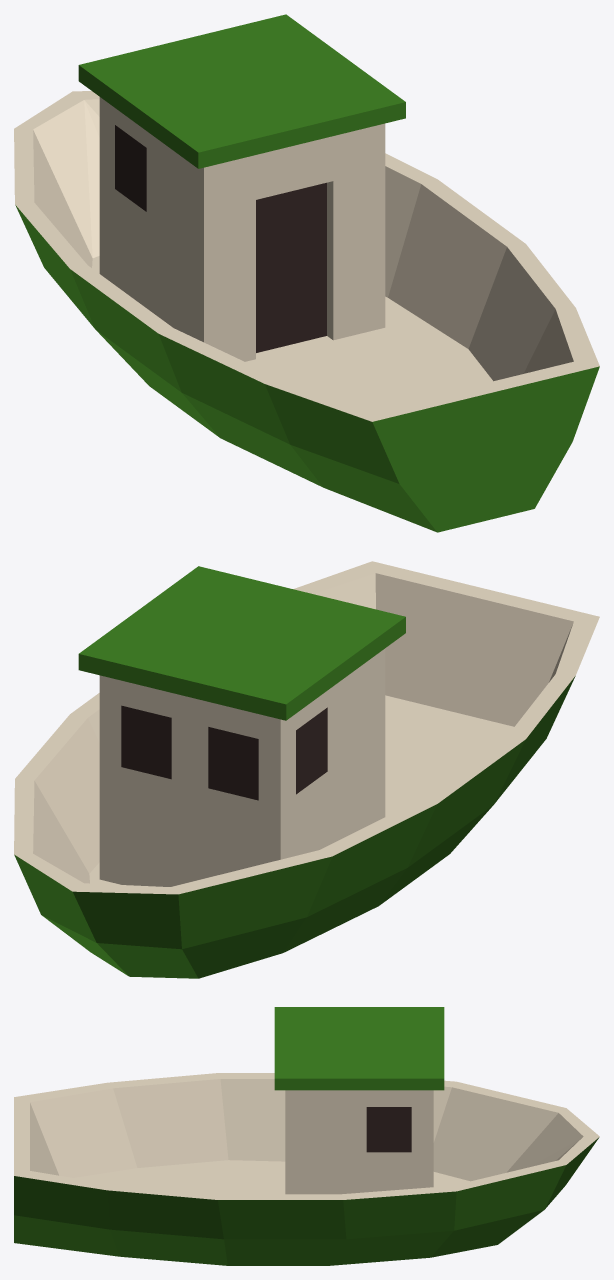
Rendered from FishingBoat_tex.fbx.
3 views of the same model, one above another, from view 1: azimuth 30°, elevation 25°; view 2: azimuth 150°, elevation 25°; view 3: azimuth 270°, elevation 25° (orthographic). The views are drawn at different scales.
Visible parts, largest first — view 1: FishingBoat_tex; view 2: FishingBoat_tex; view 3: FishingBoat_tex.
Boxes of the visible parts, bbox=[...] form: FishingBoat_tex: bbox=[14, 14, 599, 532]; FishingBoat_tex: bbox=[14, 561, 599, 978]; FishingBoat_tex: bbox=[14, 1007, 599, 1265].
Size of the model in its own units: 2.22 by 1.5 by 4.33.
